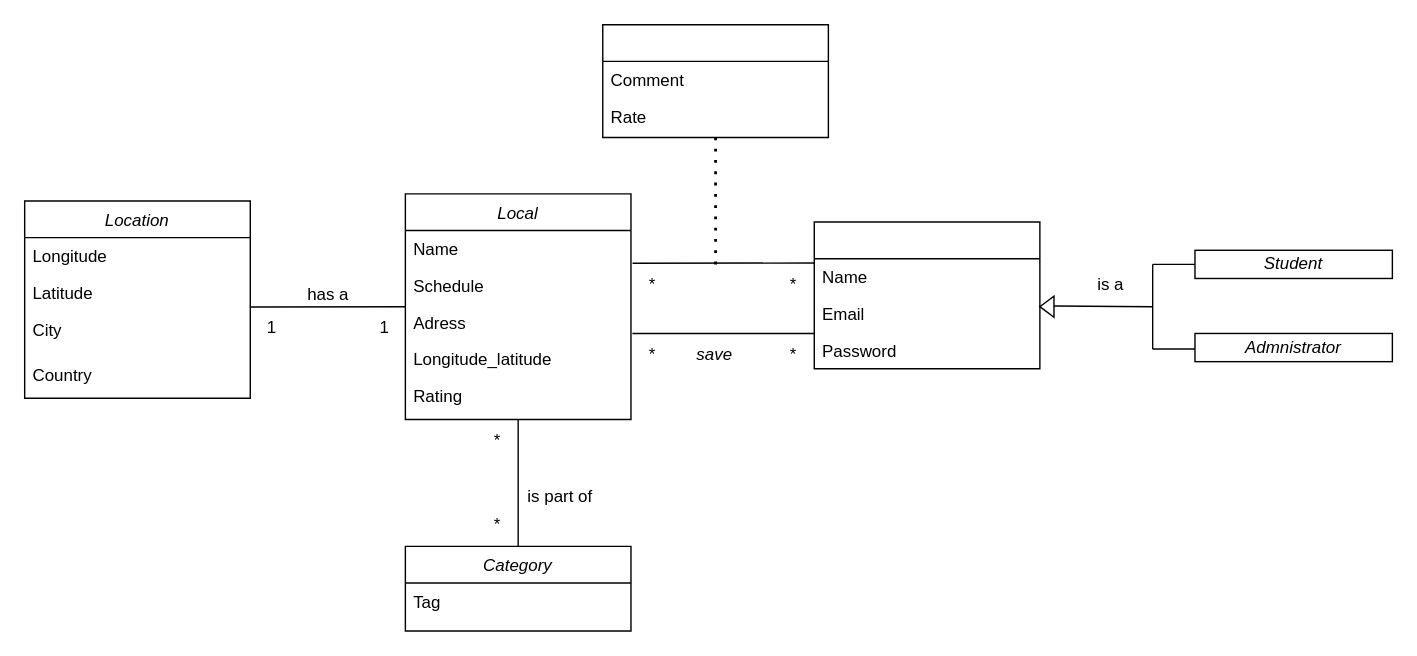
The diagram is 1417 pixels wide and 656 high, and some of its shapes have lost their labels. Each missing label, with the box of its shape:
Evaluation: (601, 23, 828, 137)
User: (813, 221, 1040, 369)
